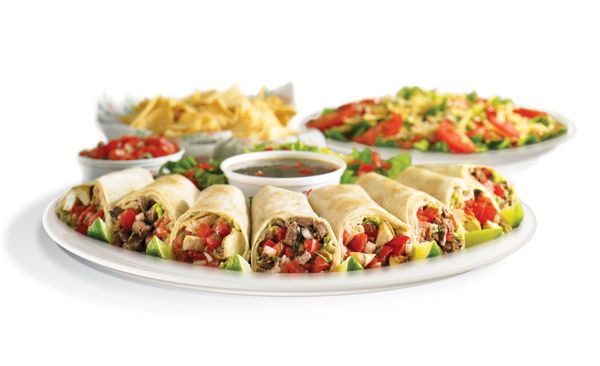soup: (168, 183, 251, 267)
sushi: (220, 150, 348, 196)
